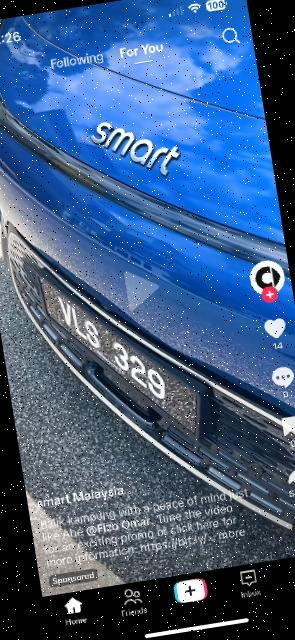License_Plate: (26, 247, 211, 471)
car: (1, 1, 295, 591)
